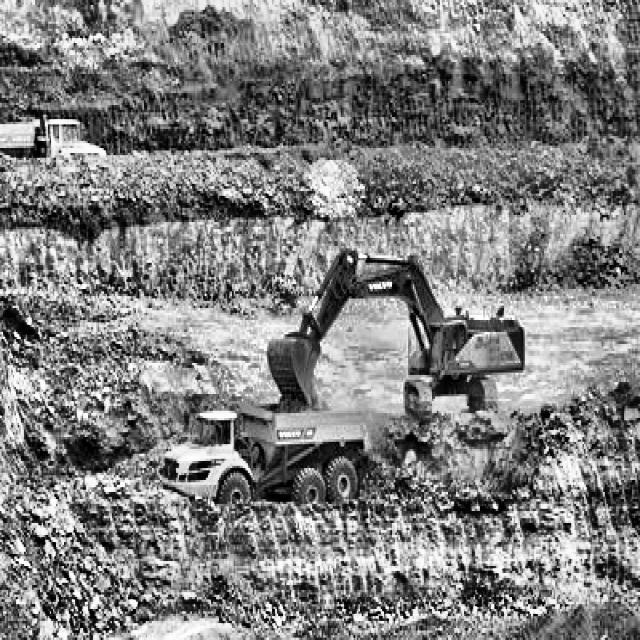dump_truck: (150, 396, 382, 516), (0, 93, 117, 184)
excavator: (264, 234, 528, 413)
